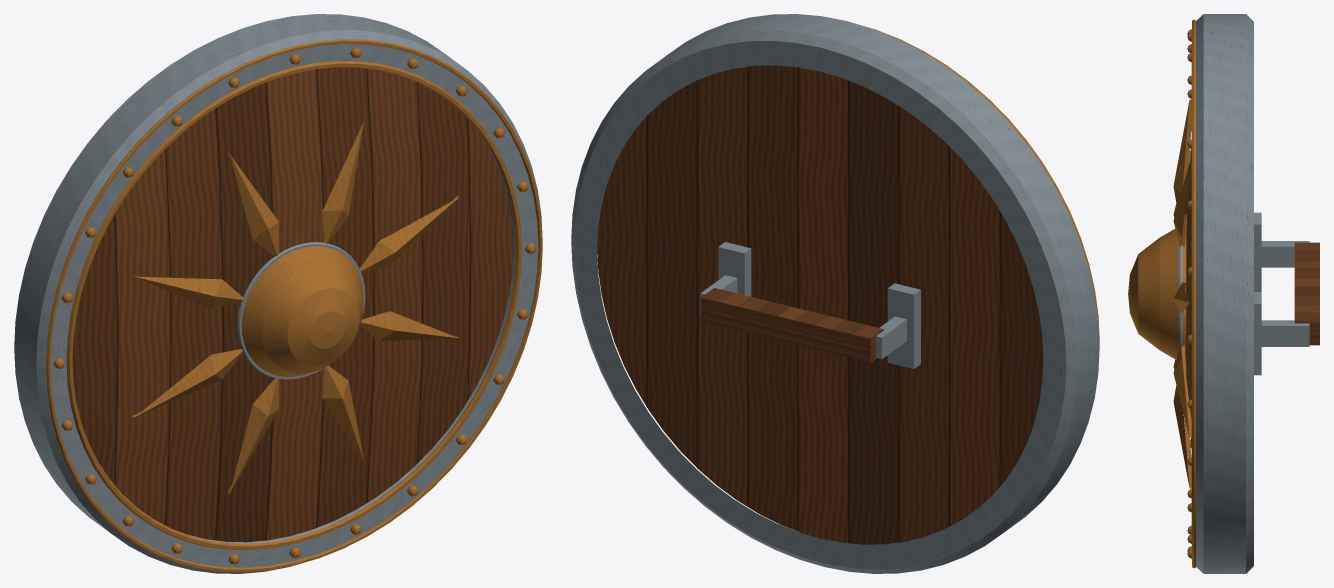
File: escudo-solar.glb
3 renders of one model, left to right at view 1: azimuth 30°, elevation 25°; view 2: azimuth 150°, elevation 25°; view 3: azimuth 270°, elevation 25°, orthographic. The views are drawn at different scales.
Visible parts, largest first — view 1: 01 · Cuerpo de tablones, 02 · Borde y asa de acero, 03 · Sol, molduras y remaches de bronce; view 2: 01 · Cuerpo de tablones, 02 · Borde y asa de acero, 03 · Sol, molduras y remaches de bronce; view 3: 02 · Borde y asa de acero, 03 · Sol, molduras y remaches de bronce, 01 · Cuerpo de tablones.
Part boxes in pixels (x1=…): 01 · Cuerpo de tablones: x1=72, y1=67, x2=513, y2=542; 02 · Borde y asa de acero: x1=14, y1=14, x2=542, y2=573; 03 · Sol, molduras y remaches de bronce: x1=46, y1=39, x2=542, y2=572; 01 · Cuerpo de tablones: x1=597, y1=65, x2=1043, y2=544; 02 · Borde y asa de acero: x1=571, y1=14, x2=1099, y2=573; 03 · Sol, molduras y remaches de bronce: x1=873, y1=29, x2=1099, y2=343; 02 · Borde y asa de acero: x1=1178, y1=14, x2=1309, y2=573; 03 · Sol, molduras y remaches de bronce: x1=1128, y1=19, x2=1195, y2=568; 01 · Cuerpo de tablones: x1=1186, y1=149, x2=1319, y2=446.
Size of the model in its own units: 0.926 by 0.926 by 0.317.
Materials: 3 (3 with a texture image).
